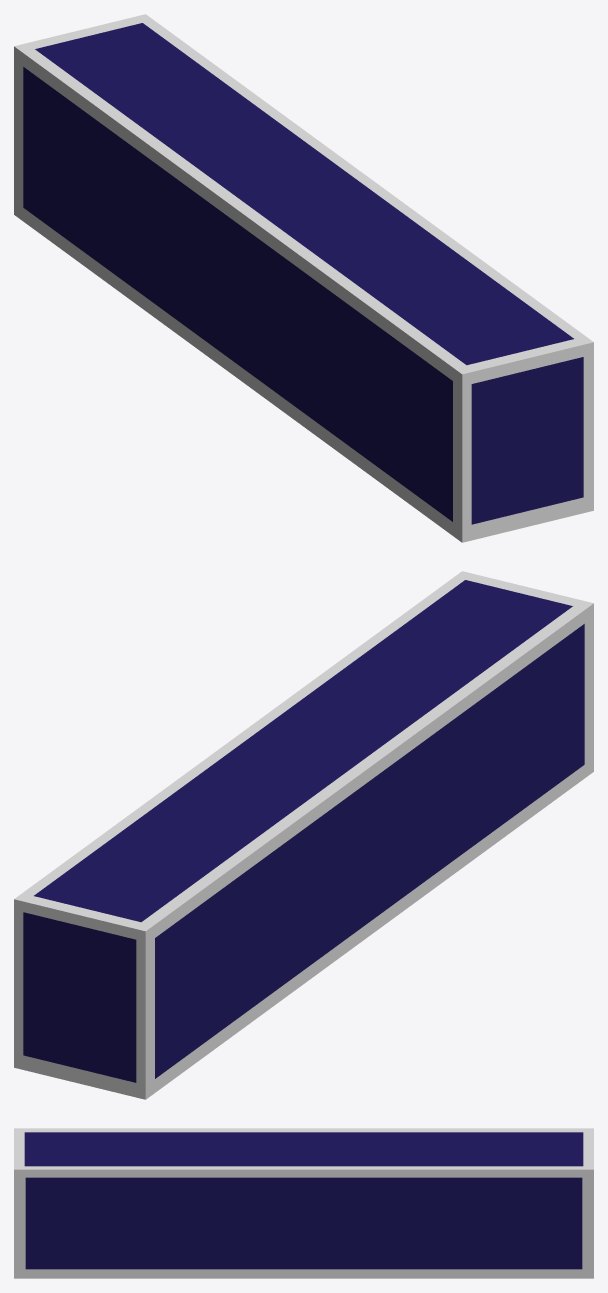
The model's file is Minus.fbx.
3 renders of one model, top to bottom at view 1: azimuth 30°, elevation 25°; view 2: azimuth 150°, elevation 25°; view 3: azimuth 270°, elevation 25°, orthographic. The views are drawn at different scales.
Visible parts, largest first — view 1: Cube; view 2: Cube; view 3: Cube.
Part boxes in pixels (left/top/right/bottom): Cube: left=14, top=14, right=593, bottom=542; Cube: left=14, top=571, right=593, bottom=1099; Cube: left=14, top=1128, right=593, bottom=1278.
Bounding box in the file's own units: 80.2 × 98 × 473.
